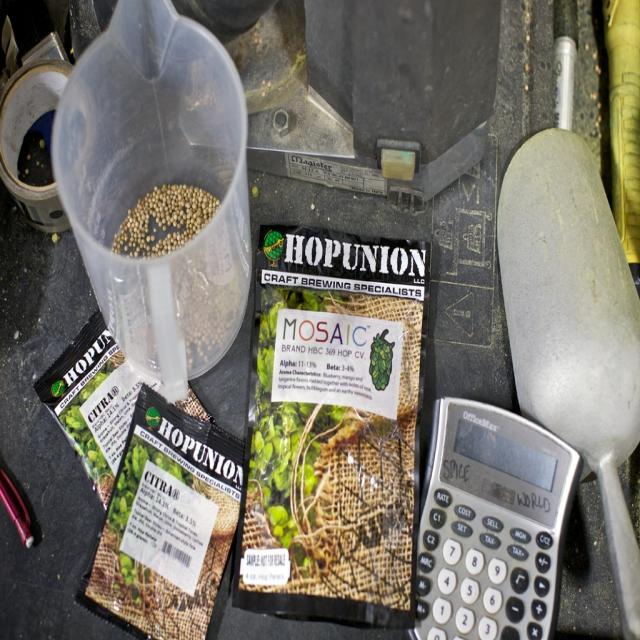Calculator: (402, 394, 586, 639)
